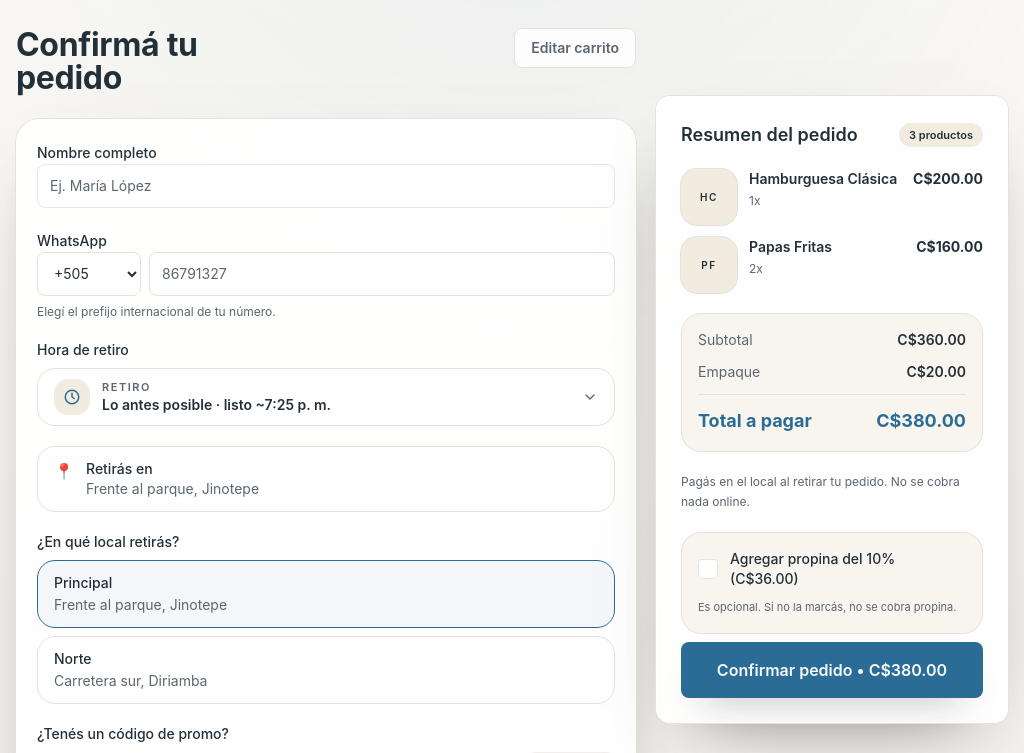
Test: checkout sin redundancias › un local que no vende un plato del carrito frena la confirmación y lo nombra (T8)
The width and height of the screenshot is (1024, 753).
Click the radio button labelled "Norte Carretera sur, Diriamba" at (73, 659), box [37,636,615,704]
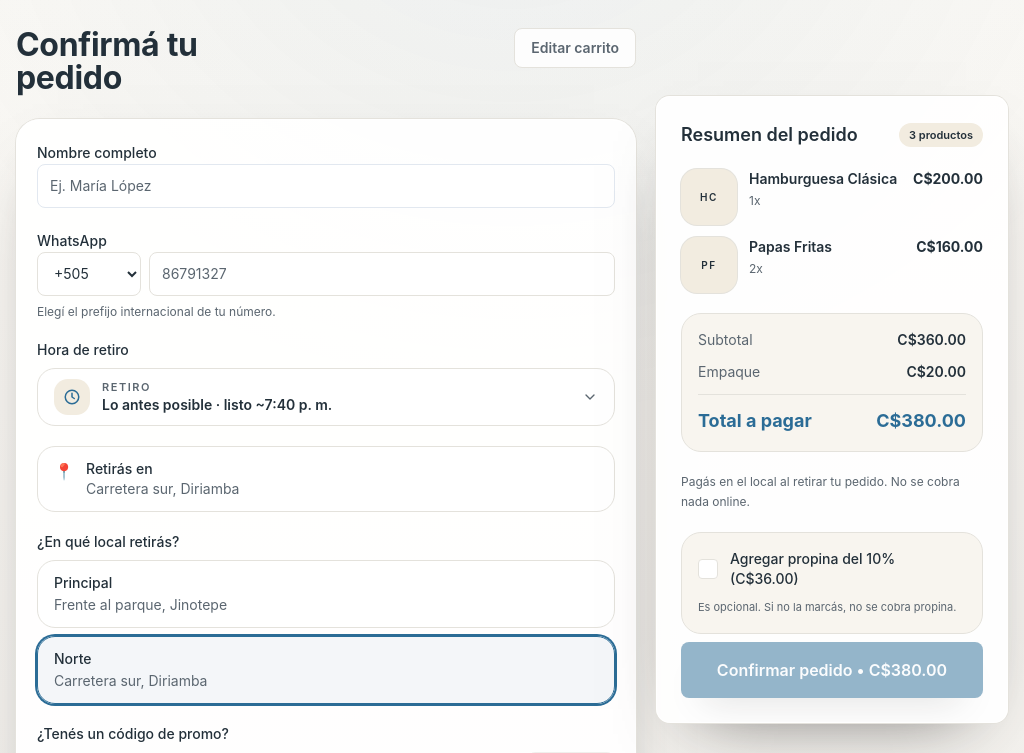
Now the button "Confirmar pedido • C$380.00" is disabled, box [681,642,983,698]
